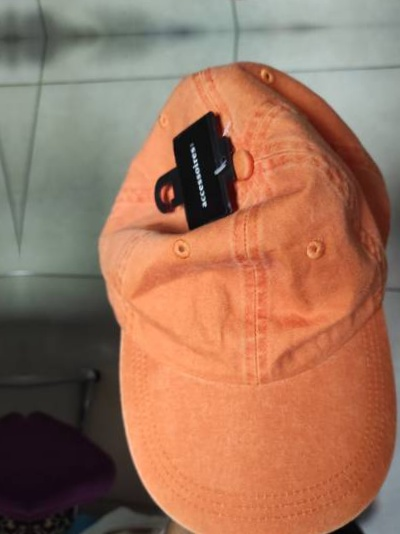Hat: (66, 48, 400, 534), (46, 0, 400, 12)
